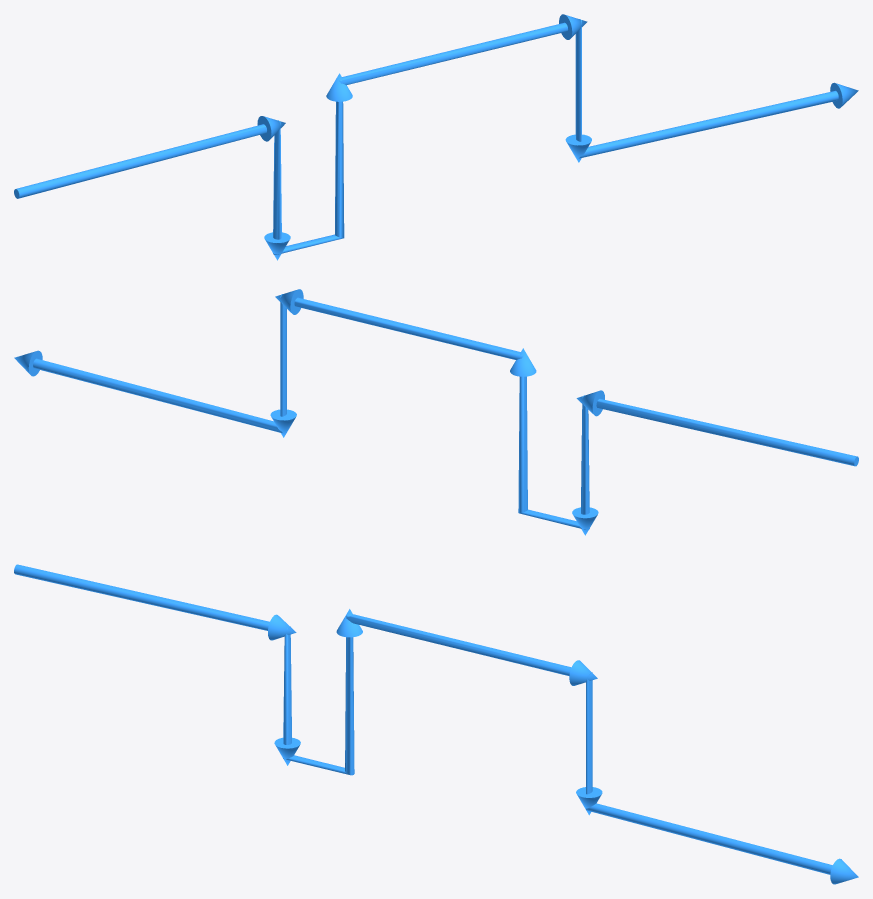
Rendered from flocculation_tank_flow.glb.
3 renders of one model, top to bottom at view 1: azimuth 30°, elevation 25°; view 2: azimuth 150°, elevation 25°; view 3: azimuth 330°, elevation 25°, orthographic.
Parts seen in each view (by area): view 1: water.001; view 2: water.001; view 3: water.001.
Boxes of the visible parts, left/top/right/bottom form: water.001: left=14, top=14, right=858, bottom=260; water.001: left=14, top=289, right=858, bottom=535; water.001: left=14, top=564, right=858, bottom=884.
Size of the model in its own units: 4.75 by 0.945 by 0.1775.
